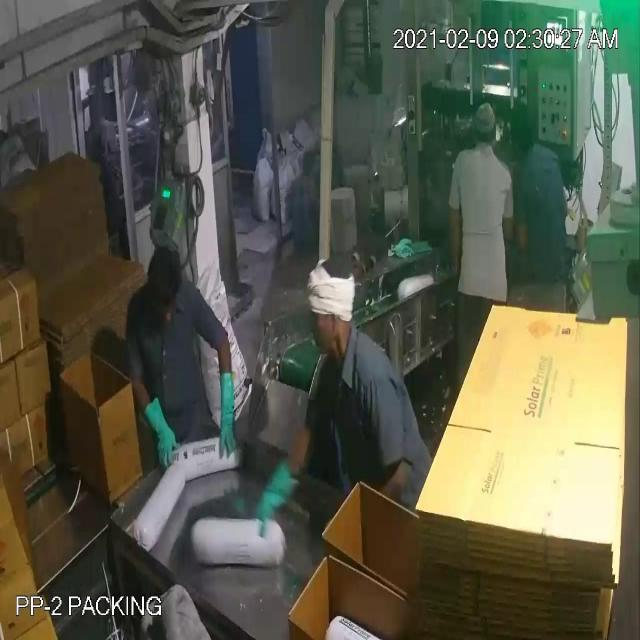Gloves: (30, 94, 456, 490)
